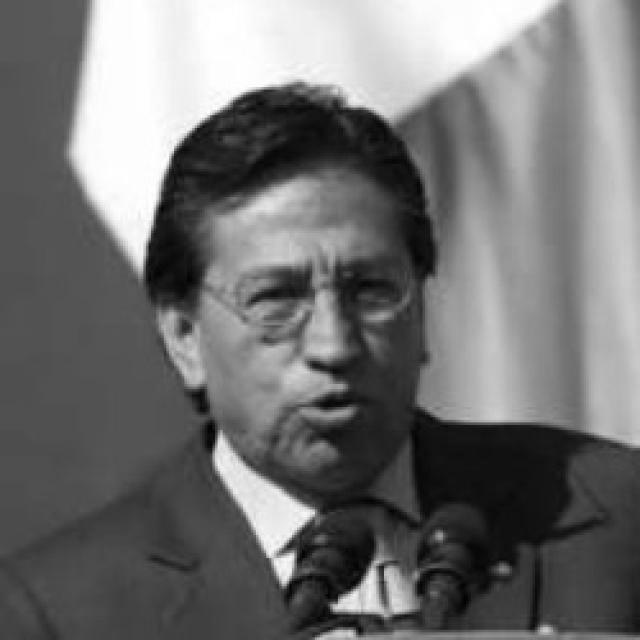real: (179, 150, 427, 498), (233, 248, 402, 330)
